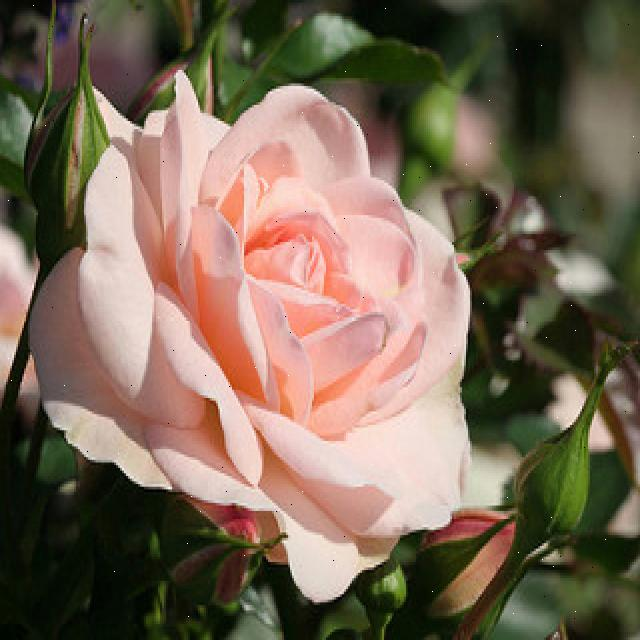Bloomed: (26, 68, 474, 602)
